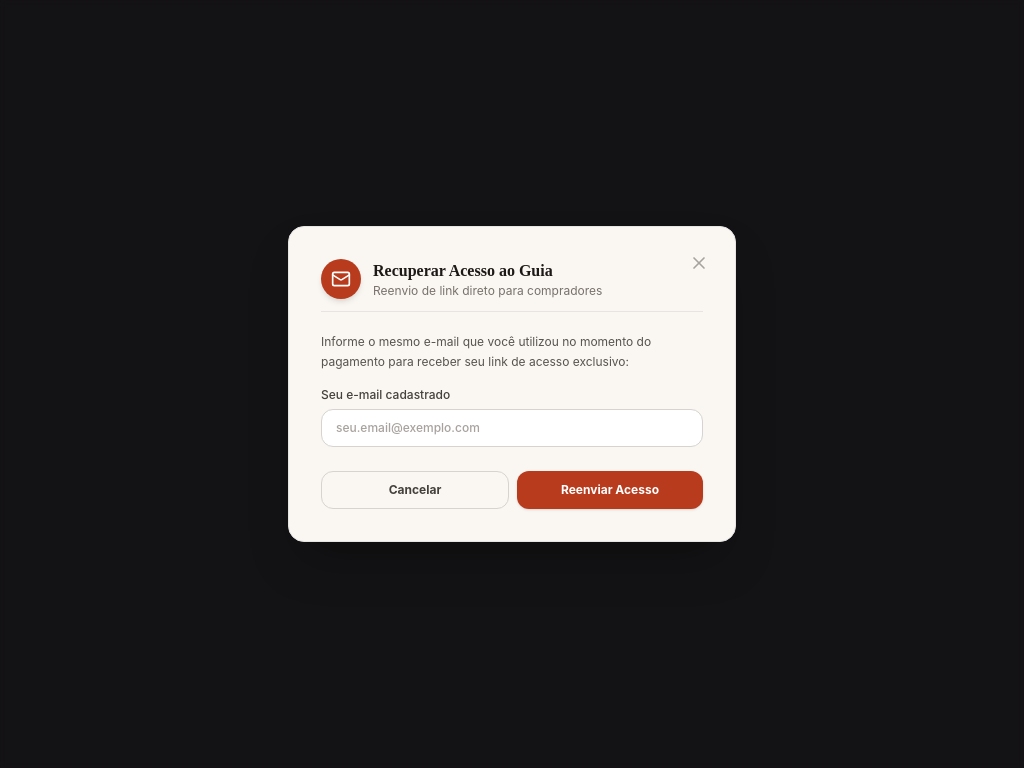
NORQVA — RecoveryRequestModal UI Error Contract Suite › 3. HTTP 400: Does NOT show success screen; displays input error message
Type "cliente@example.com" into the field with placeholder "seu.email@exemplo.com".
click(512, 428); type("cliente@example.com")  # box x1=321 y1=409 x2=703 y2=447
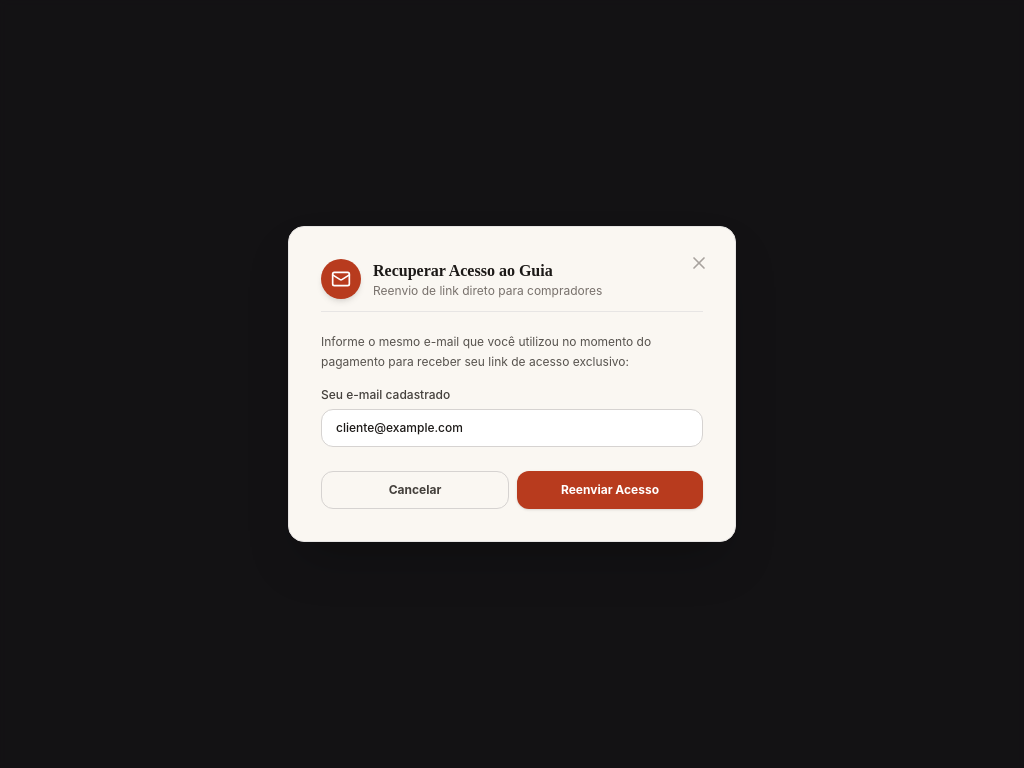
Click the button "Reenviar Acesso".
click(610, 490)  # box x1=517 y1=471 x2=703 y2=509
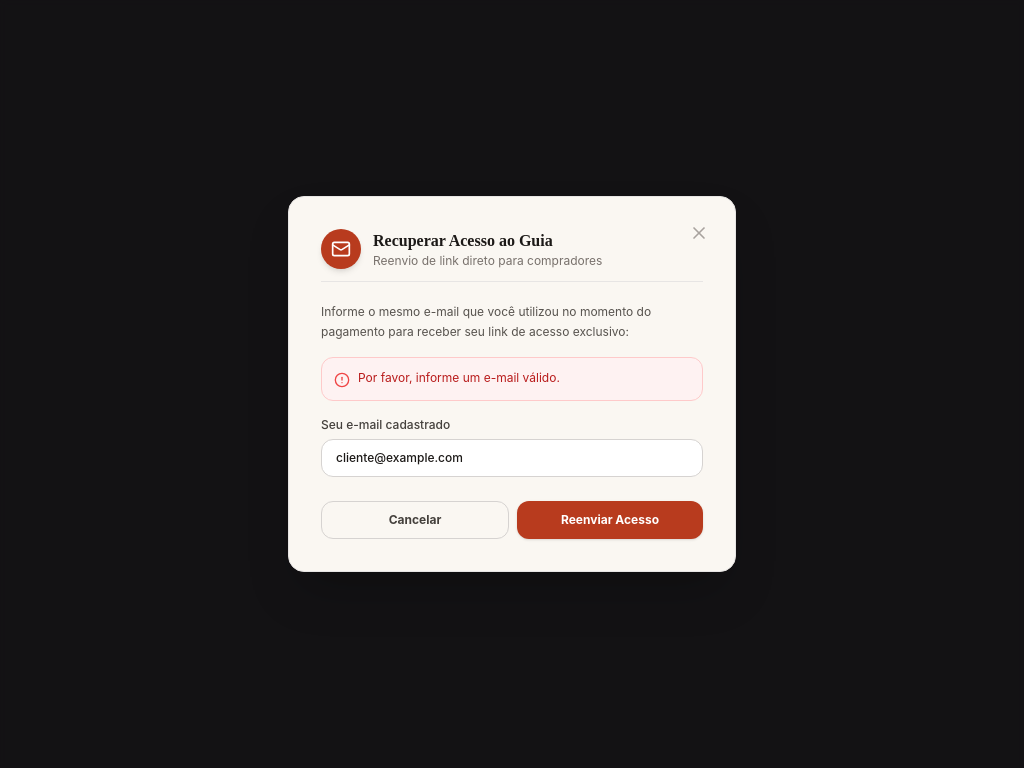
Now the text "Por favor, informe um e-mail válido." is shown, box x1=358 y1=370 x2=560 y2=386
